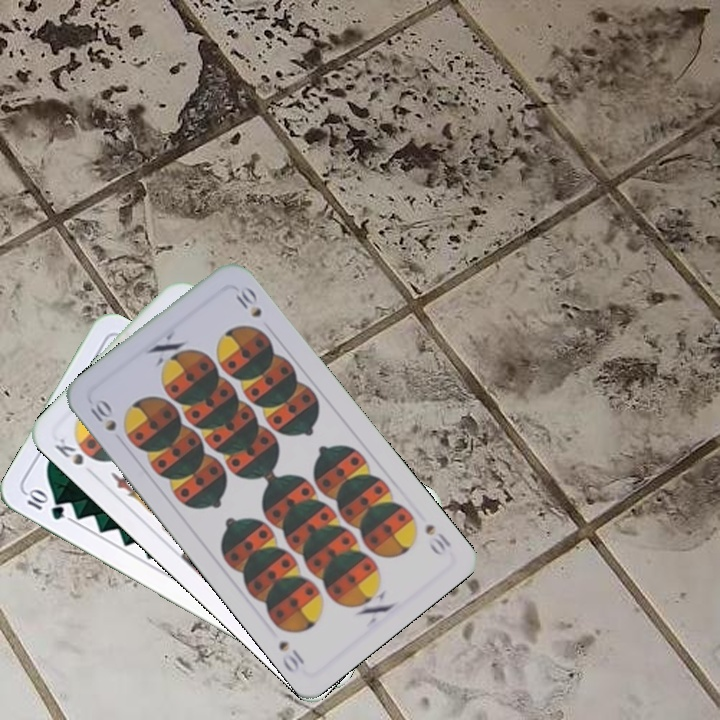G10: (22, 486, 67, 523)
S10: (85, 394, 119, 434), (420, 520, 454, 559)
SK: (50, 431, 86, 468)
